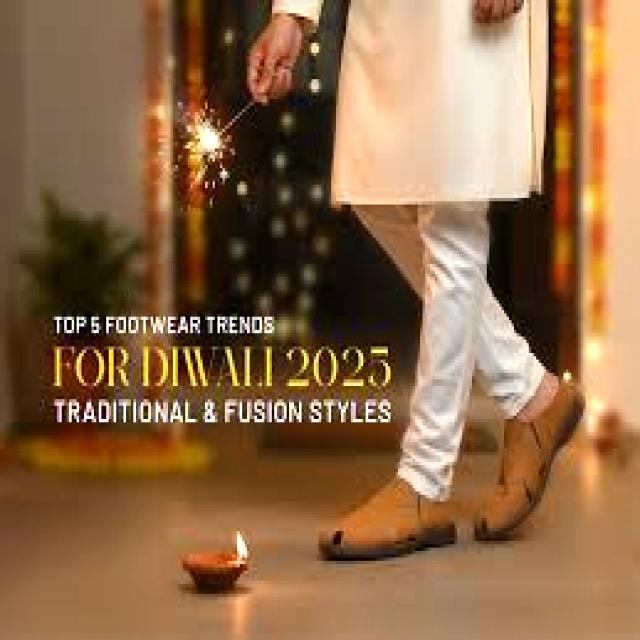foot-wear: (478, 378, 586, 544), (319, 472, 457, 561)
lower-wear: (356, 202, 546, 501)
